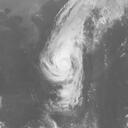cyclone: (38, 30, 92, 84)
